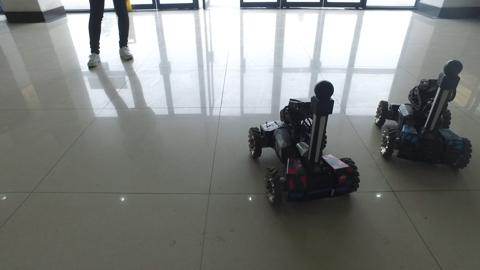chariot: (241, 78, 366, 208), (374, 56, 475, 181)
